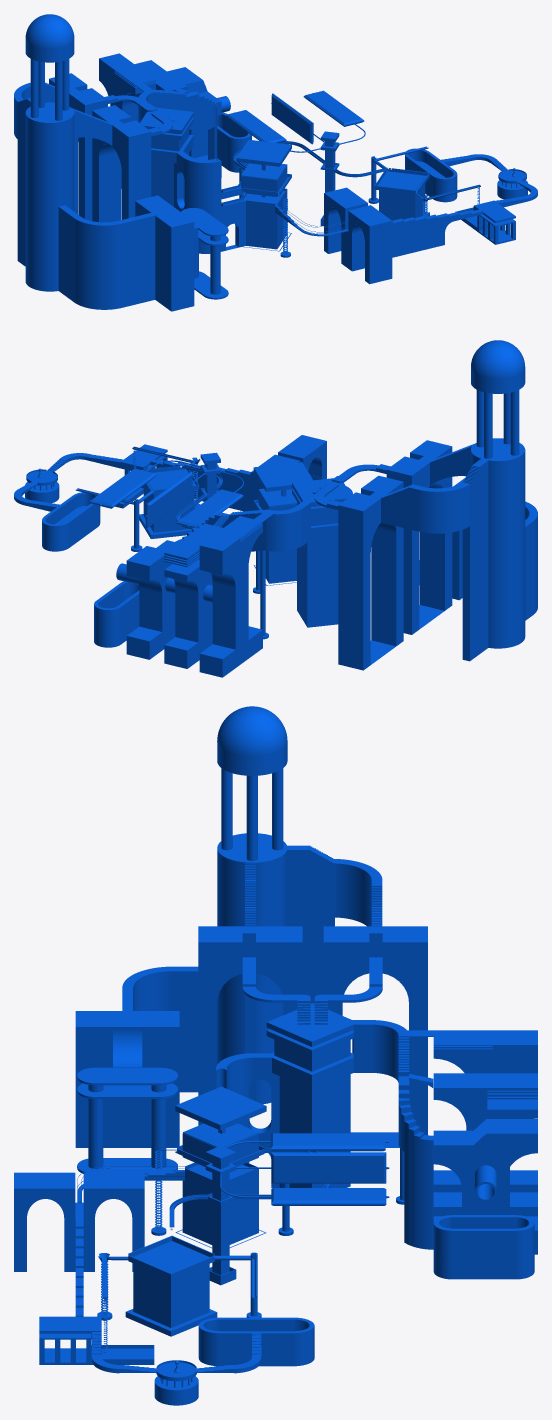
Rendered from asset.glb.
3 renders of one model, top to bottom at view 1: azimuth 30°, elevation 25°; view 2: azimuth 150°, elevation 25°; view 3: azimuth 270°, elevation 25°, orthographic. The views are drawn at different scales.
Parts seen in each view (by area): view 1: object_248.004, object_260.004, object_105.004, object_369.004, object_250.004, object_186.004, object_104.004, object_387.004, object_93.004, object_166.004, object_176.004, object_26.004 (+28 smaller); view 2: object_104.004, object_260.004, object_105.004, object_93.004, object_107.004, object_214.004, object_87.004, object_88.004, object_274.004, object_26.004, object_218.004, object_67.004 (+30 smaller); view 3: object_260.004, object_250.004, object_104.004, object_105.004, object_369.004, object_274.004, object_88.004, object_214.004, object_107.004, object_26.004, object_176.004, object_248.004 (+35 smaller).
Boxes of the visible parts, x1,y1,x2,y2 form: object_248.004: (58,205,155,309); object_260.004: (25,102,74,291); object_105.004: (92,105,151,222); object_369.004: (324,187,392,284); object_250.004: (135,195,194,311); object_186.004: (174,149,221,253); object_104.004: (49,73,107,220); object_387.004: (392,209,482,257); object_93.004: (99,53,155,175); object_166.004: (242,191,287,249); object_176.004: (379,172,425,220); object_26.004: (405,148,457,202); object_104.004: (338,475,403,670); object_260.004: (471,438,525,648); object_105.004: (386,440,452,634); object_93.004: (199,516,262,657); object_107.004: (462,459,488,661); object_214.004: (297,483,347,627); object_87.004: (164,523,222,642); object_88.004: (126,540,177,631); object_274.004: (94,581,139,647); object_26.004: (42,492,100,551); object_218.004: (410,488,469,533); object_67.004: (265,501,310,551); object_260.004: (217,833,287,1104); object_250.004: (75,1011,179,1147); object_104.004: (323,926,427,1135); object_105.004: (198,926,302,1125); object_369.004: (14,1172,144,1271); object_274.004: (433,1215,534,1279); object_88.004: (433,1119,537,1214); object_214.004: (274,1006,350,1187); object_107.004: (287,845,334,1003); object_26.004: (198,1317,314,1366); object_176.004: (133,1243,209,1327); object_248.004: (122,966,198,1092).
Size of the model in its own units: 132 by 71.14 by 88.43.
